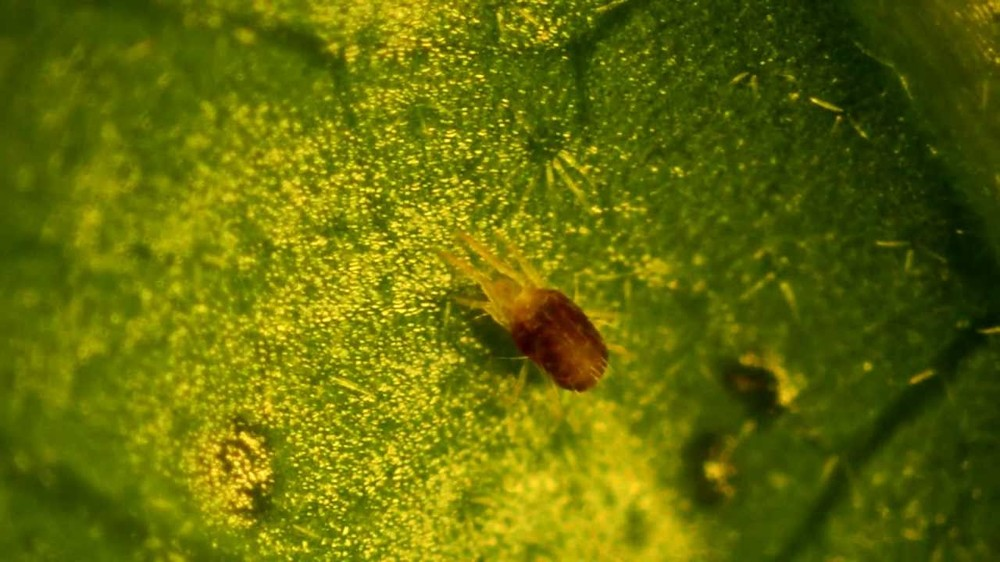Aracnido Rojo: (404, 223, 640, 432)
